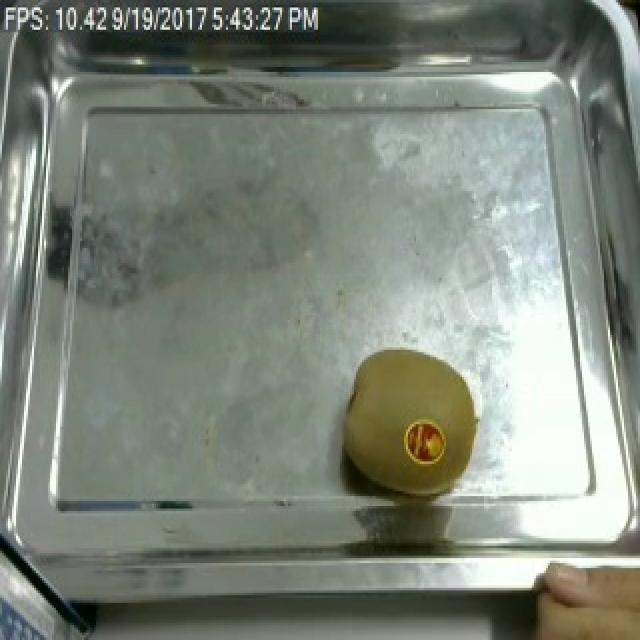Fruit: (332, 340, 490, 503)
